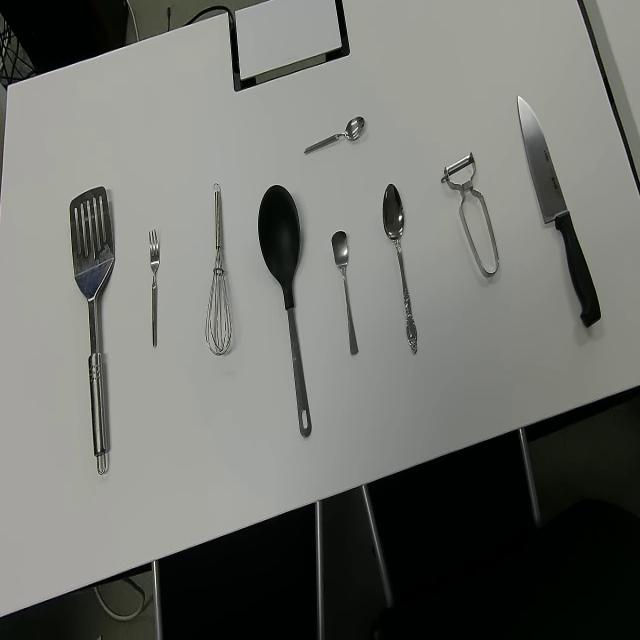Desert-Spoon: (381, 182, 418, 354)
Dinner-Fork: (148, 228, 160, 349)
Kitchen-Knife: (516, 94, 602, 330)
Peeler: (440, 150, 500, 279)
Serving-Spoon: (257, 182, 312, 440), (68, 184, 115, 475)
Tea-Spoon: (331, 229, 359, 356), (303, 114, 365, 157)
Whisk: (205, 182, 233, 358)
